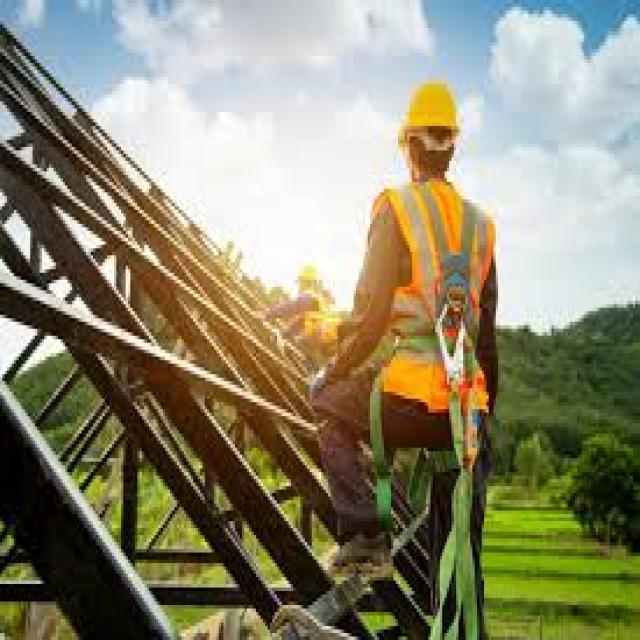harness: (429, 283, 496, 640)
